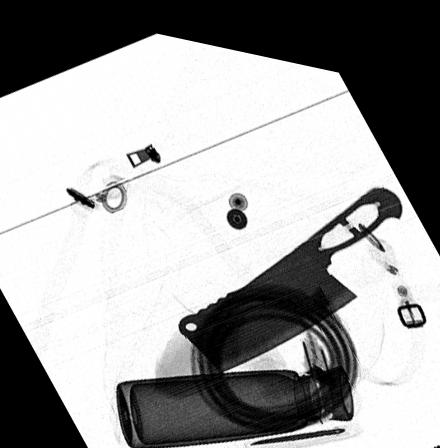Knife: (177, 168, 403, 364), (250, 411, 348, 435)
